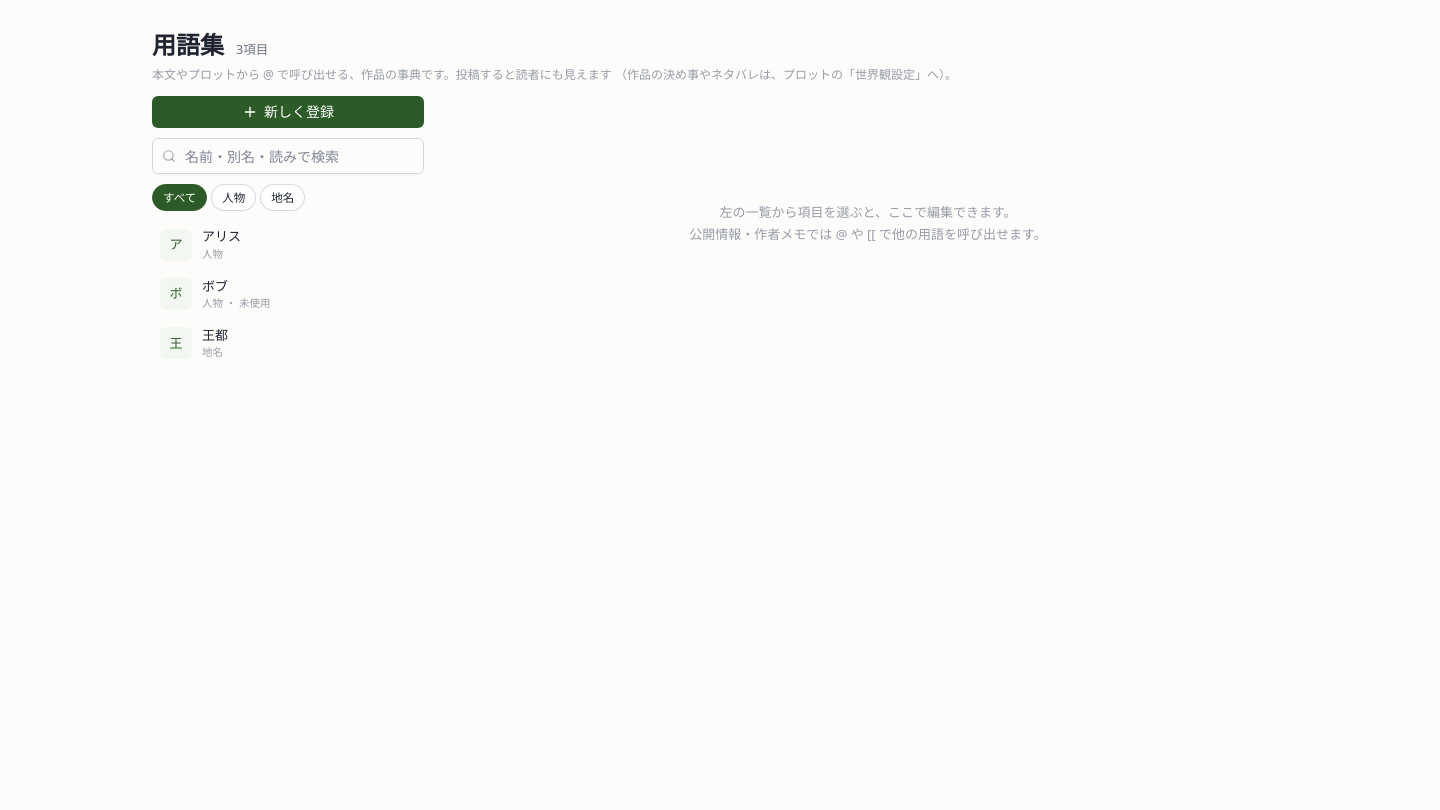
Test case: GlossaryView（左右2カラム：一覧・検索・その場編集） › 一覧に名前と分類・未使用が出て、選ぶと編集面が開く
The image size is (1440, 810).
Expected: the text "人物 ・ 未使用" is shown, [202,296,270,310]
Click the button with aria-label "「アリス」を編集" at (176,245), box [152,221,424,269]
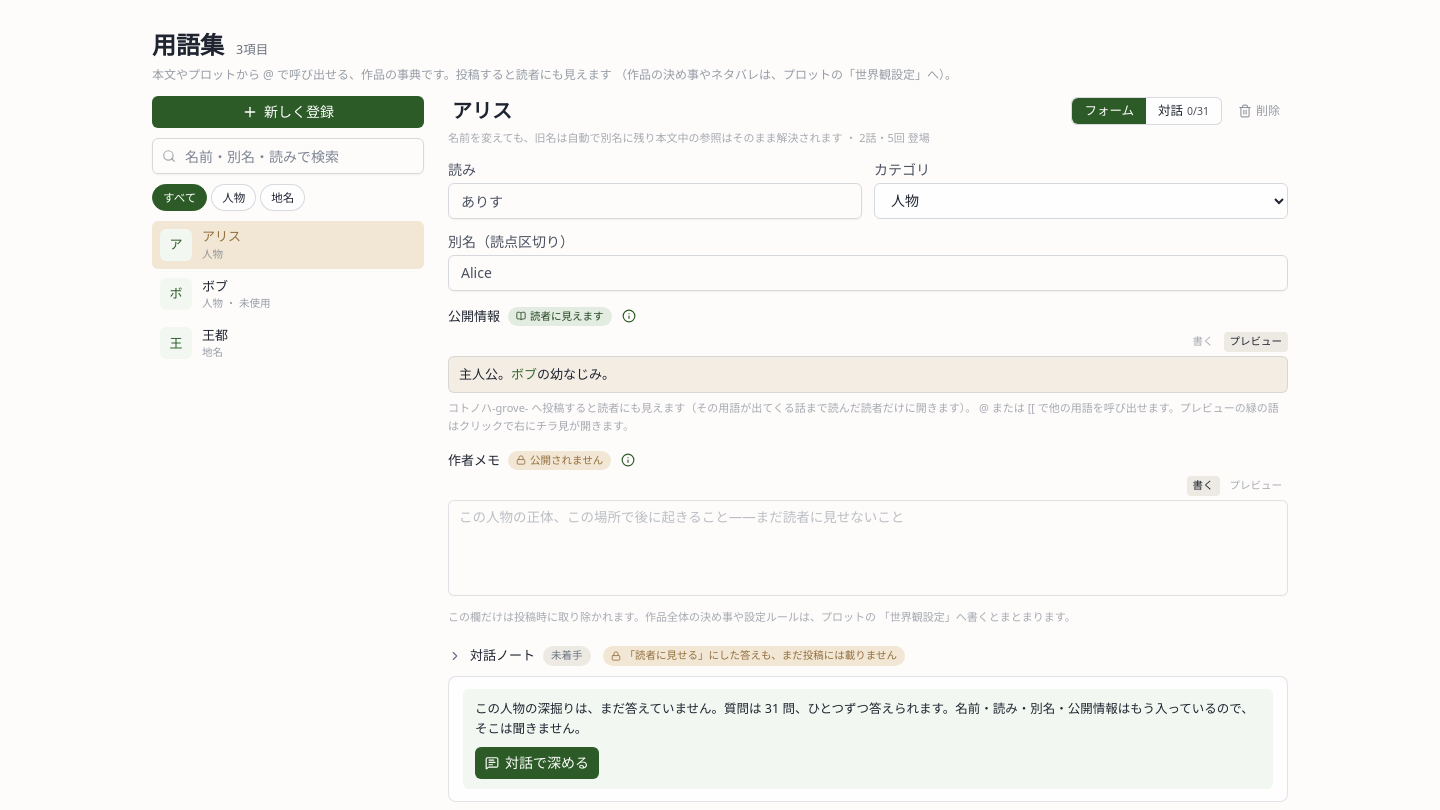
Now the field named "名前" holds "アリス", box [448,96,1059,126]
Now the field labelled "読み" holds "ありす", box [448,182,862,218]
Now the field labelled "別名（読点区切り）" holds "Alice", box [448,254,1288,290]
